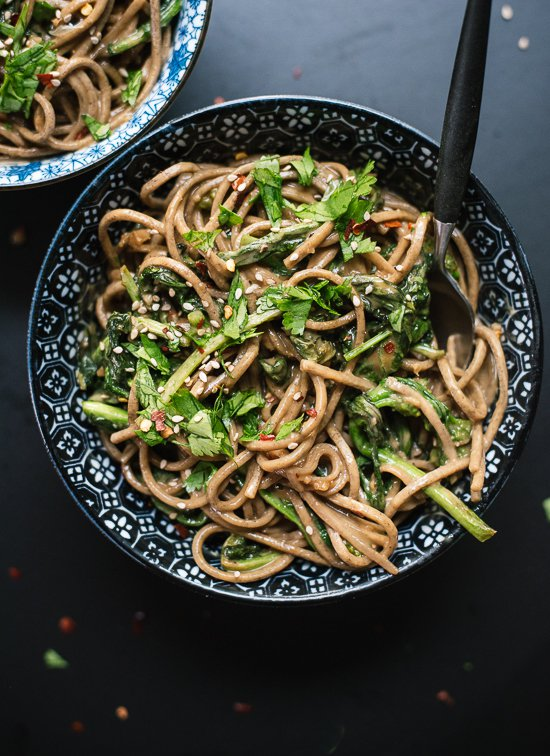Soba: (104, 160, 500, 579), (8, 1, 179, 165)
